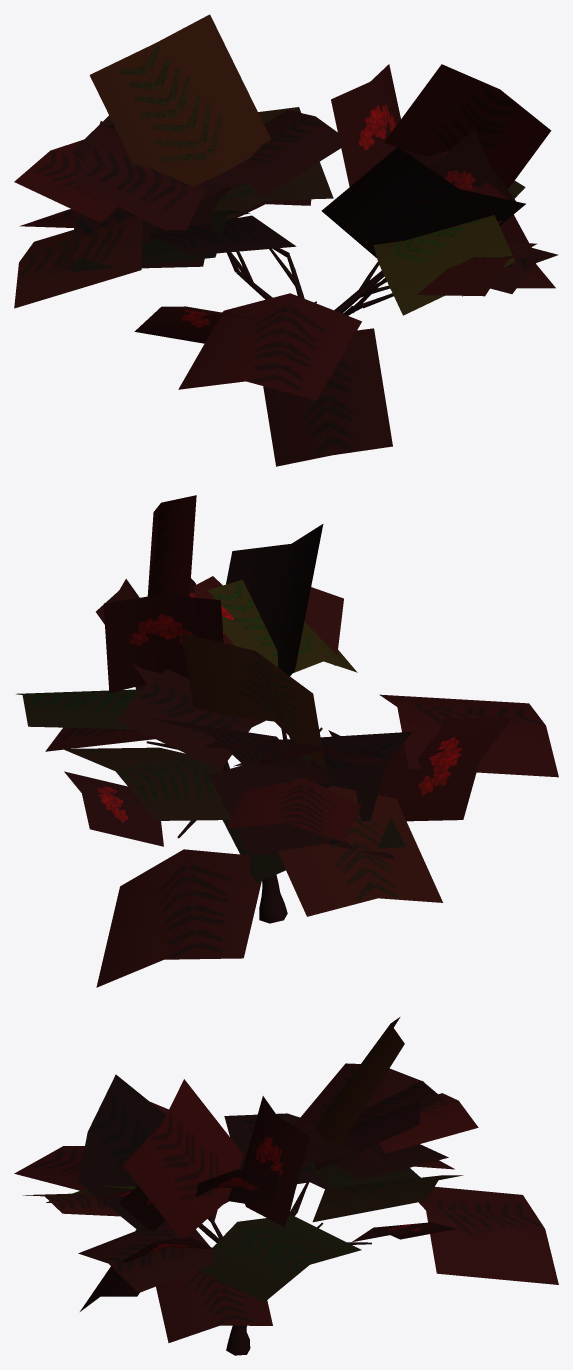
File: veg_gul1_card.glb
3 views of the same model, one above another, from view 1: azimuth 30°, elevation 25°; view 2: azimuth 150°, elevation 25°; view 3: azimuth 270°, elevation 25° (orthographic). The views are drawn at different scales.
Visible parts, largest first — view 1: gulmohar_1; view 2: gulmohar_1; view 3: gulmohar_1.
Boxes of the visible parts, box(x1,y1,x2,y2) form: gulmohar_1: box(14, 14, 558, 466); gulmohar_1: box(16, 495, 558, 987); gulmohar_1: box(14, 1017, 558, 1355).
Size of the model in its own units: 16.71 by 12.31 by 19.18.
Materials: 2 (2 with a texture image).
